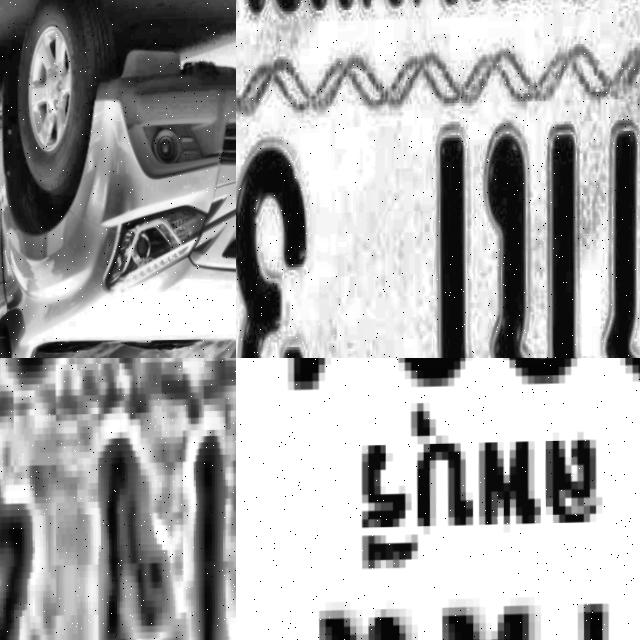license-plate: (236, 0, 640, 358), (236, 358, 640, 640), (0, 358, 236, 640)
